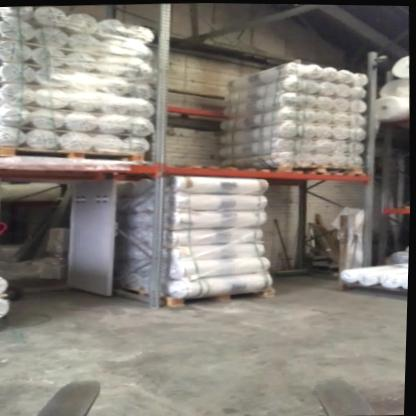vertical_damage: (146, 262, 181, 311)
